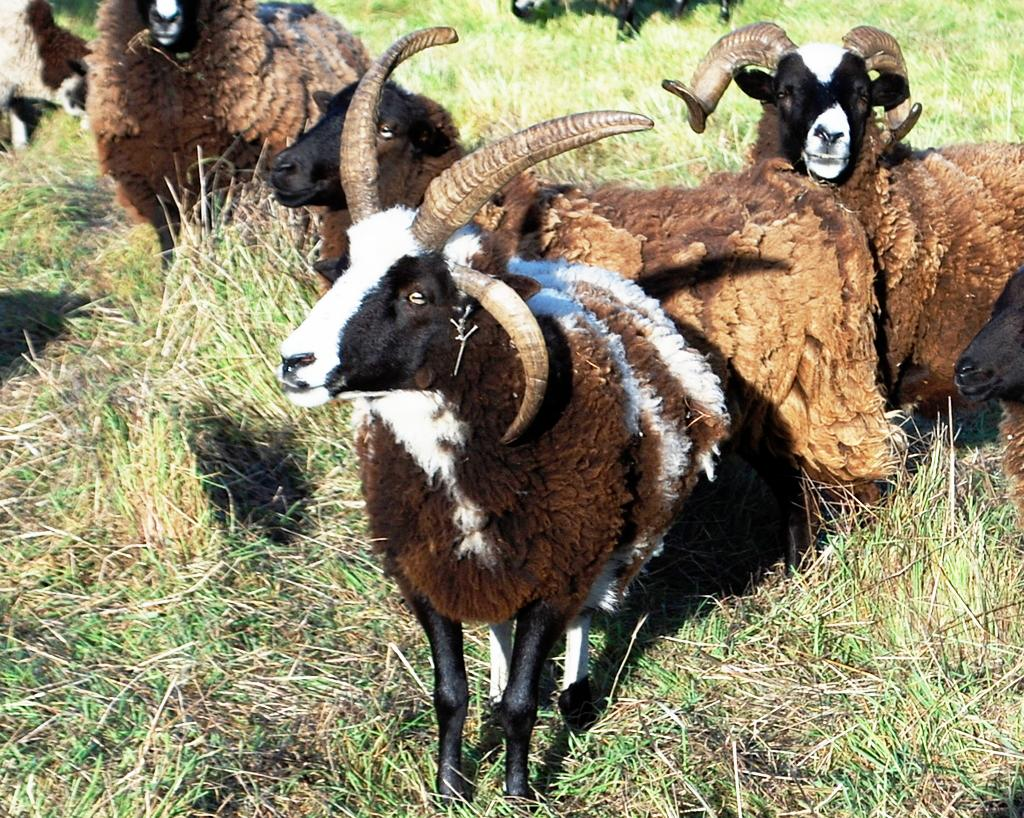Sheep: (272, 19, 729, 808), (274, 85, 904, 540), (664, 16, 1024, 431), (87, 0, 312, 264)
